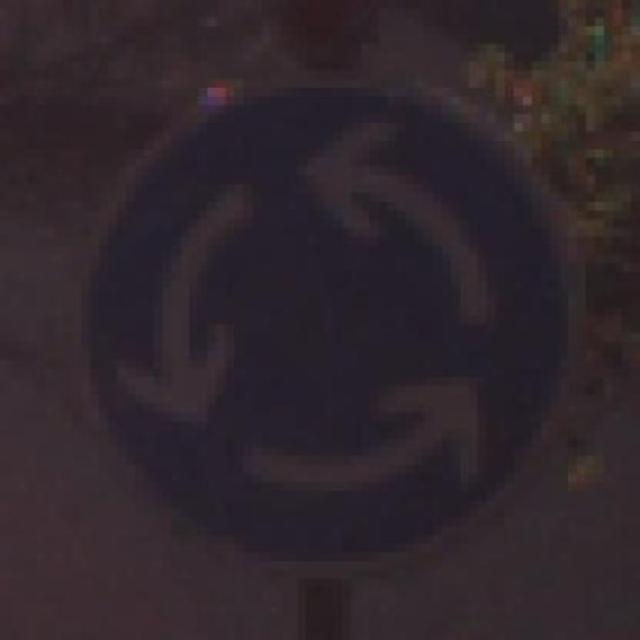Round-About: (54, 87, 614, 578)
